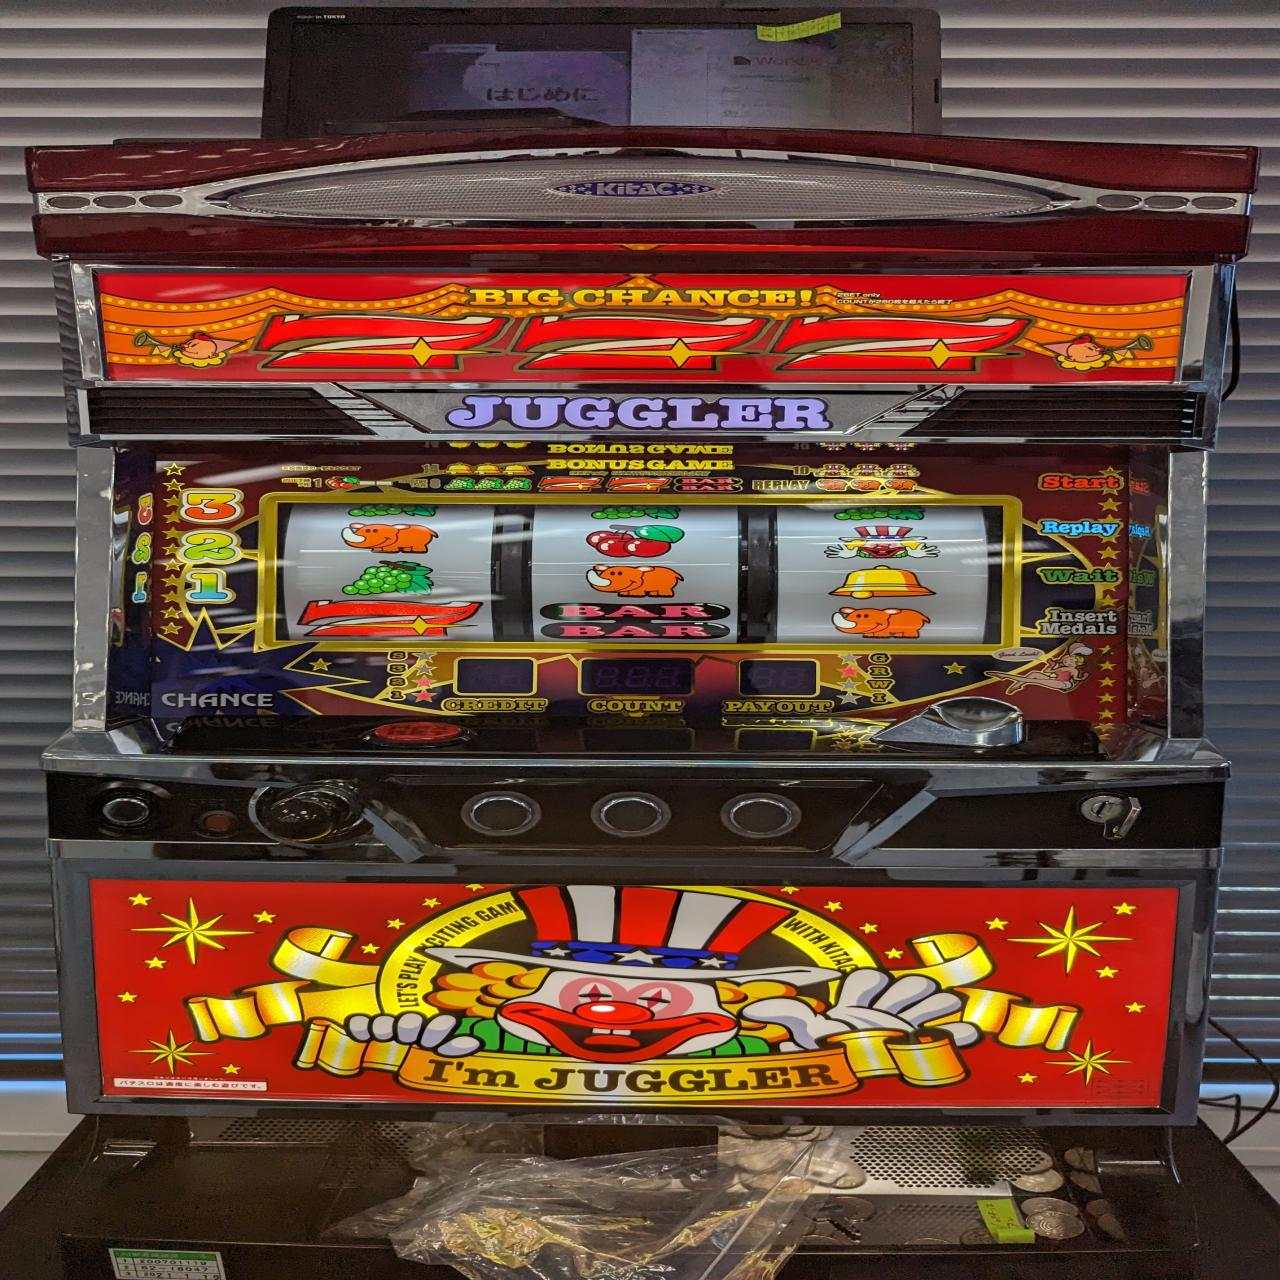7: (298, 599, 484, 638)
8: (585, 564, 687, 598), (339, 523, 444, 556), (831, 607, 933, 639)
Display: (264, 492, 1008, 655)
bar: (537, 600, 733, 641)
bell: (828, 564, 938, 600)
cherry: (583, 524, 685, 558)
clown: (825, 525, 944, 560)
grape: (339, 560, 436, 597)
